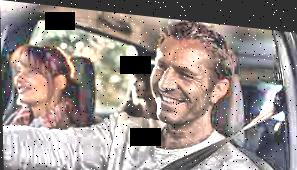seatbelt: (135, 74, 289, 170)
